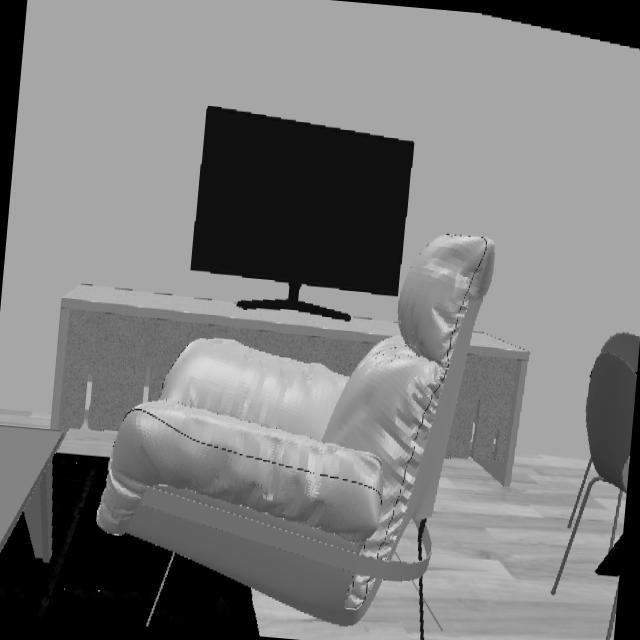chair: (559, 331, 640, 582)
monitor: (190, 107, 413, 308)
sofa: (95, 235, 494, 627)
table: (0, 426, 61, 559)
